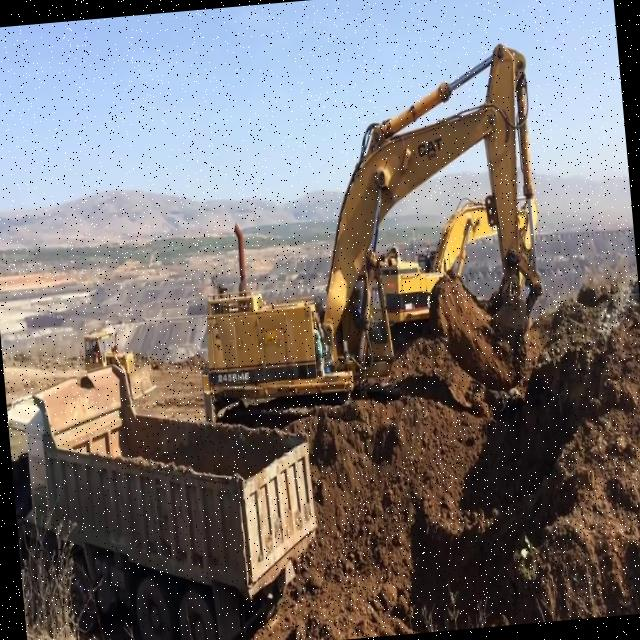Bulldozer: (81, 328, 154, 400)
Dump Truck: (3, 345, 329, 640)
Excavator: (174, 39, 556, 432), (356, 188, 546, 328)
